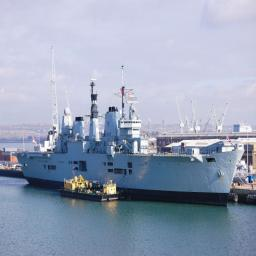Portanaves: (13, 68, 249, 211)
